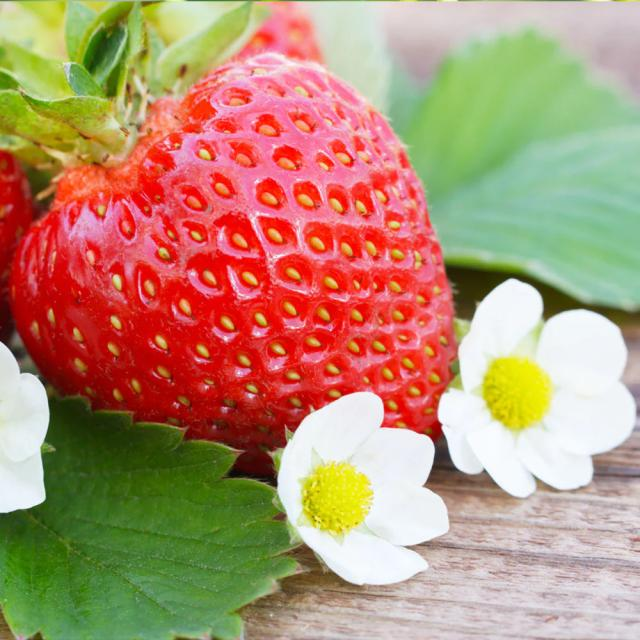strawberry: (0, 0, 468, 455)
